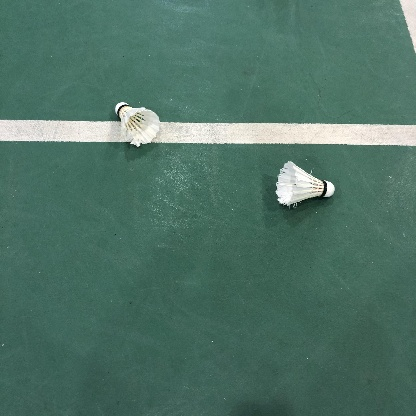ball_single: (275, 161, 335, 206), (115, 102, 161, 147)
